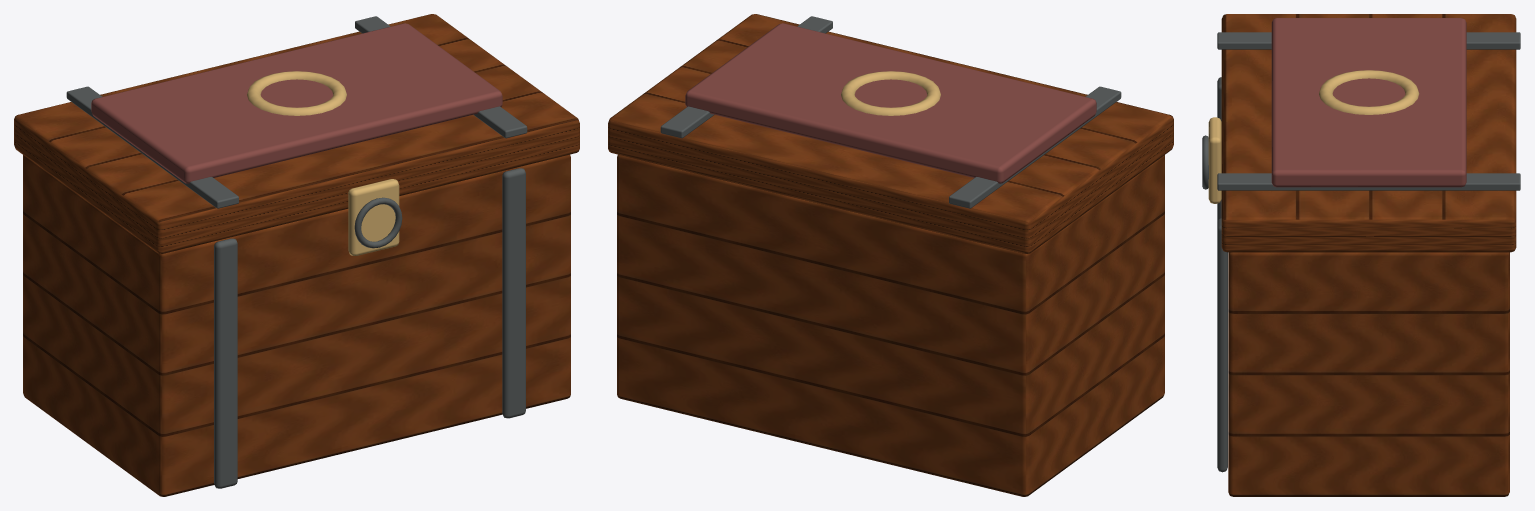
The model's file is adventurers-tavern-and-guild-hall-reward-chest-29a798f0__24750.glb.
The picture shows the model from 3 angles, left to right: view 1: azimuth 30°, elevation 25°; view 2: azimuth 150°, elevation 25°; view 3: azimuth 270°, elevation 25°; orthographic projection.
Visible parts, largest first — view 1: reward-chest, lid (×2); view 2: reward-chest, lid (×2); view 3: reward-chest, lid (×2).
Part boxes in pixels (x1,y1,x2,y2): reward-chest: (23, 23, 570, 496); lid (×2): (14, 14, 579, 253); reward-chest: (617, 23, 1164, 496); lid (×2): (608, 14, 1173, 253); reward-chest: (1202, 18, 1509, 496); lid (×2): (1217, 14, 1520, 252).
Bounding box in the file's own units: 1.13 × 0.788 × 0.735.
Materials: 4 (1 with a texture image).
